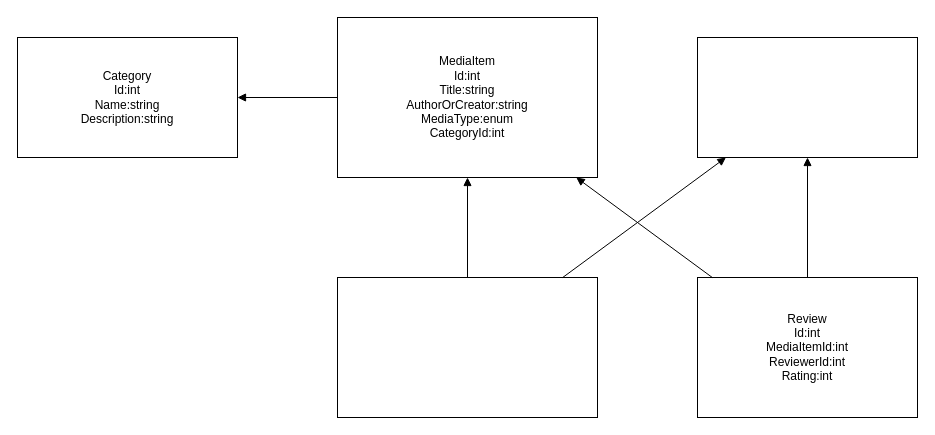
The diagram is 935 pixels wide and 435 high, and some of its shapes have lost their labels. The shapes that lost their labels are listed below. From the top down, each one's centre as x and y in pixels, then its label:
At [807,97]: "Person Id:int FullName:string Email:string".
At [467,347]: "Loan Id:int MediaItemId:int BorrowerId:int BorrowedAt:DateTime".
